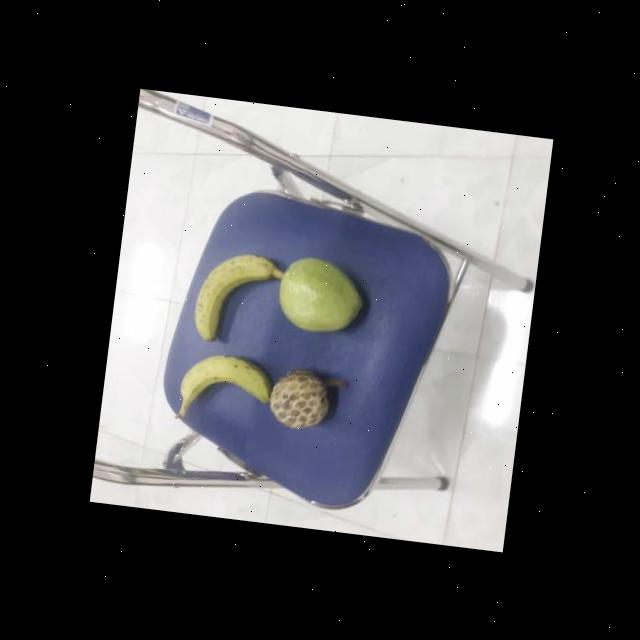Sakya fruit: (264, 363, 334, 433)
banana: (190, 244, 280, 349), (176, 346, 273, 424)
guava: (274, 250, 368, 338)
